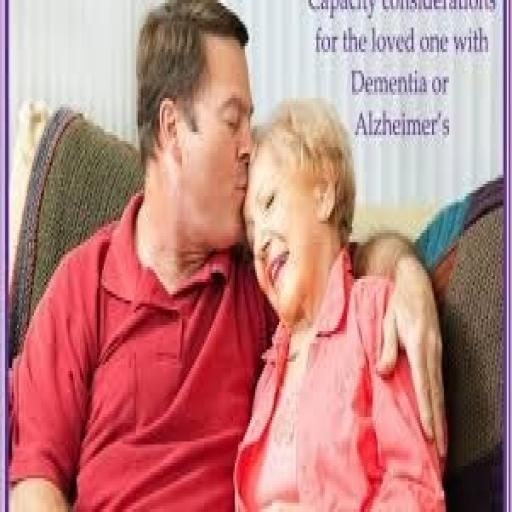hugging: (7, 0, 451, 509), (231, 92, 451, 509)
